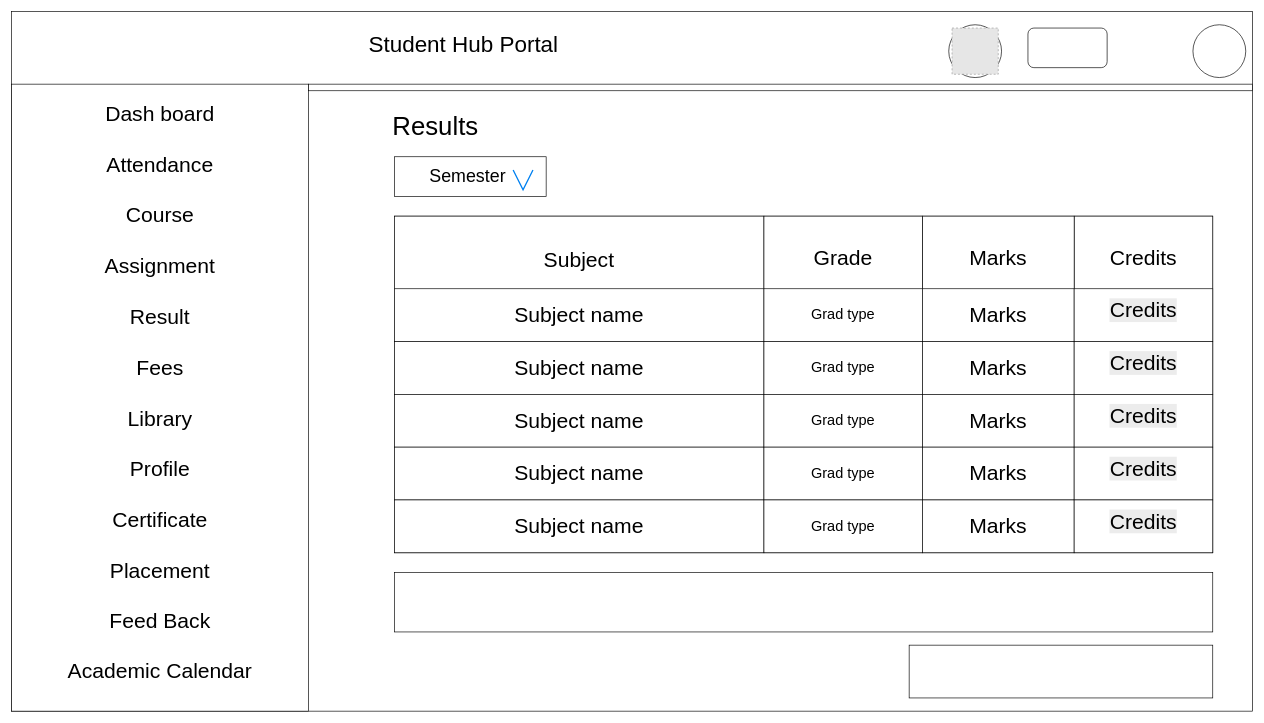
The diagram is 1264 pixels wide and 723 high, and some of its shapes have lost their labels. Grey dashed boxes stand in for pictures. The shapes that lost their labels are listed below. From the top down, each one's centre as x and y in pixels, then its label:
(1067,47): Name
(1219,51): Setting
(803,602): SGPA : CGPA:
(1060,671): Download Marksheet
